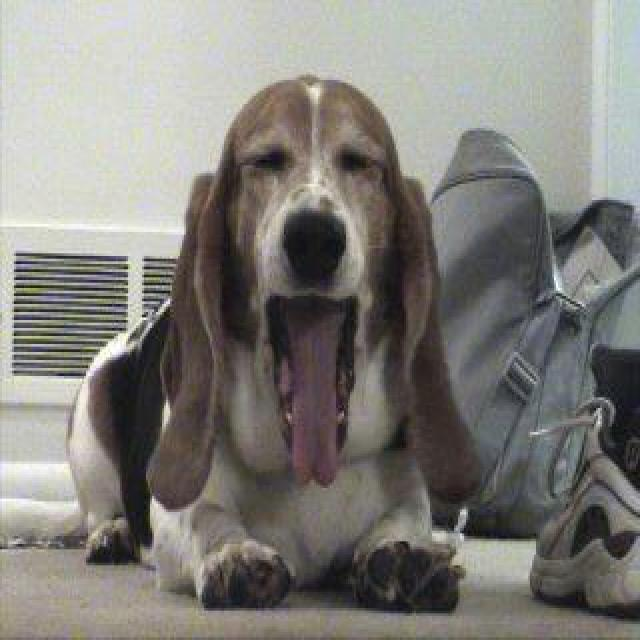basset: (0, 74, 482, 610)
